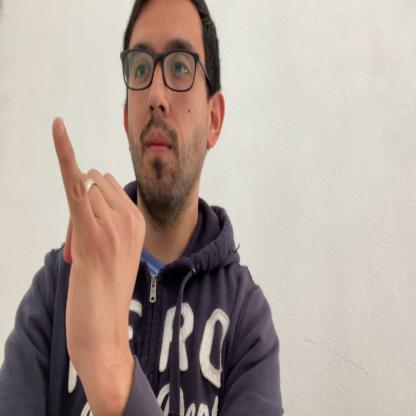I: (51, 115, 146, 380)
